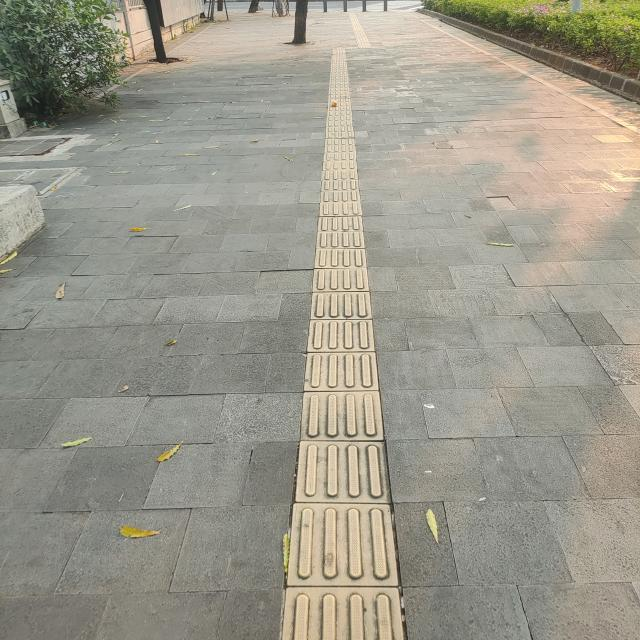lurus: (297, 59, 391, 640)
